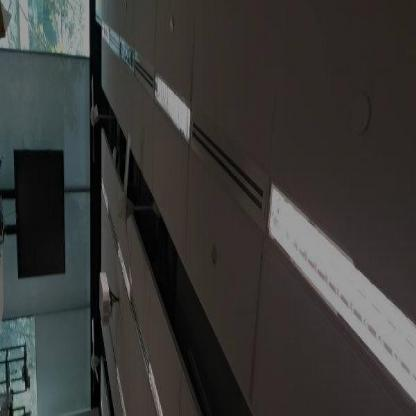light_on: (264, 175, 416, 415), (144, 60, 199, 147), (112, 240, 136, 302), (142, 360, 169, 414), (108, 362, 128, 415), (94, 172, 111, 215)
